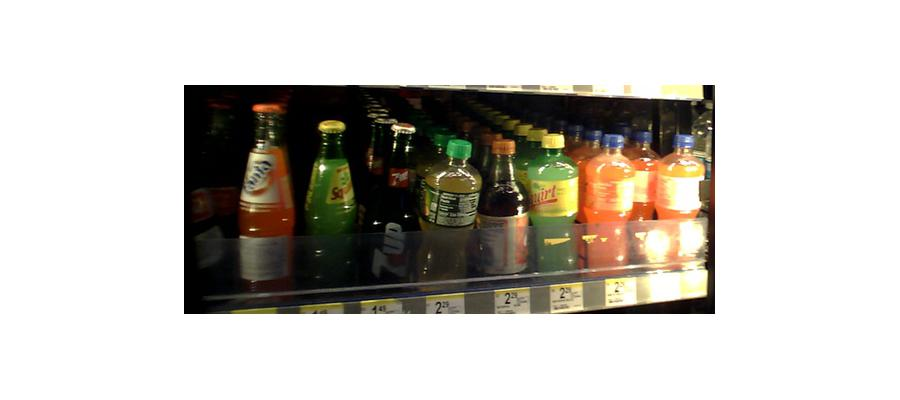bottle: (239, 103, 295, 302), (417, 132, 481, 282), (302, 119, 356, 291), (365, 118, 416, 287), (529, 127, 581, 278), (478, 134, 531, 279), (652, 118, 704, 261), (584, 128, 636, 270)
